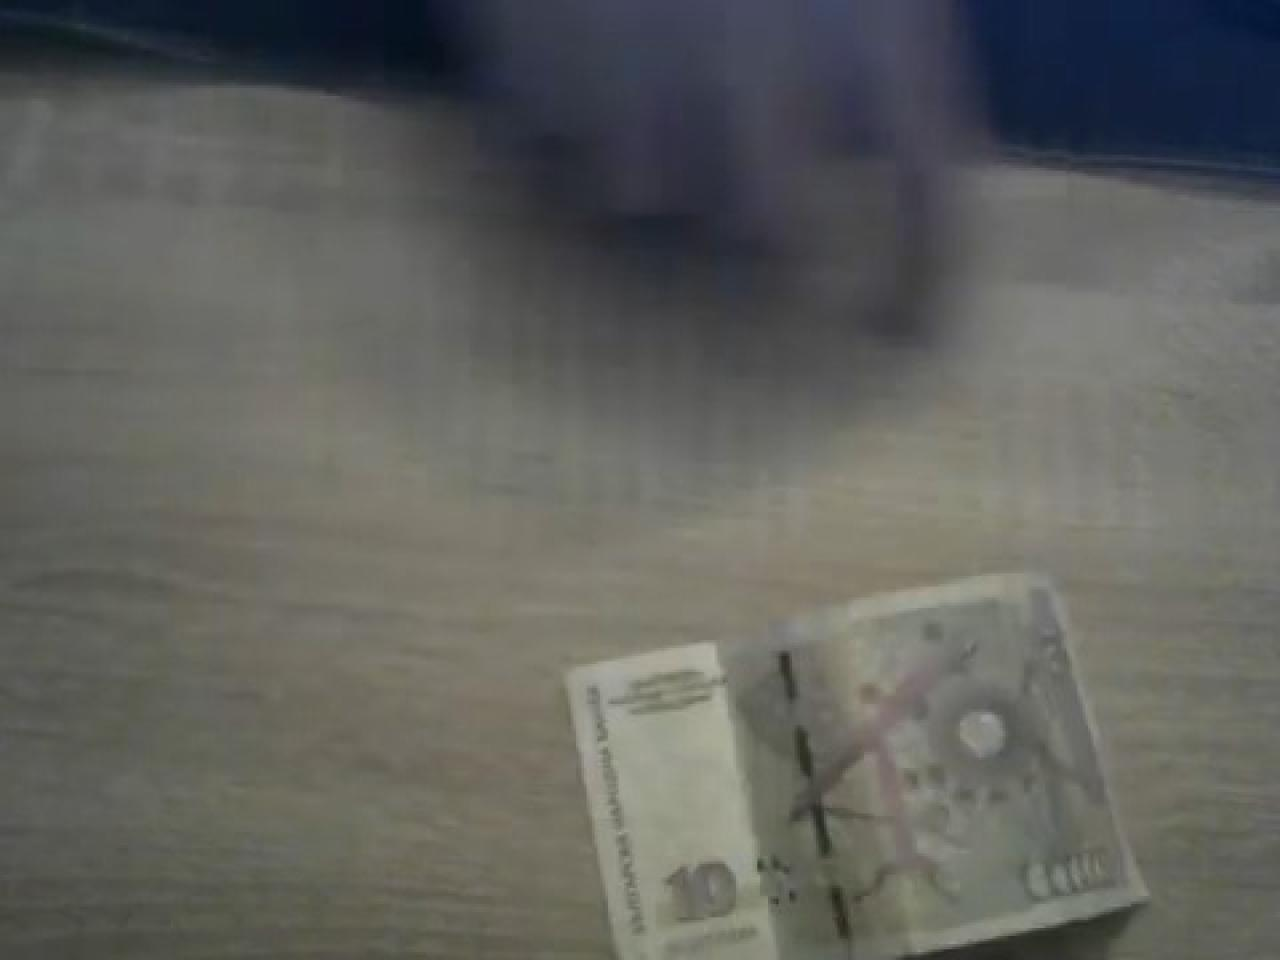10leva: (560, 574, 1152, 960)
